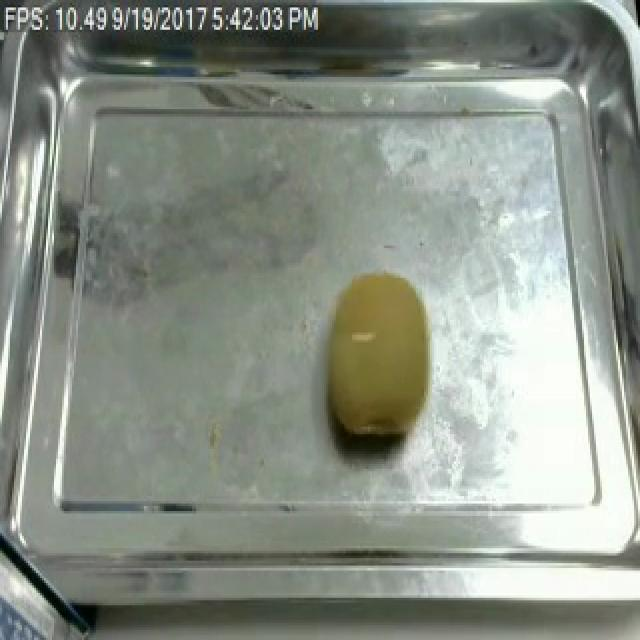Fruit: (312, 263, 448, 449)
